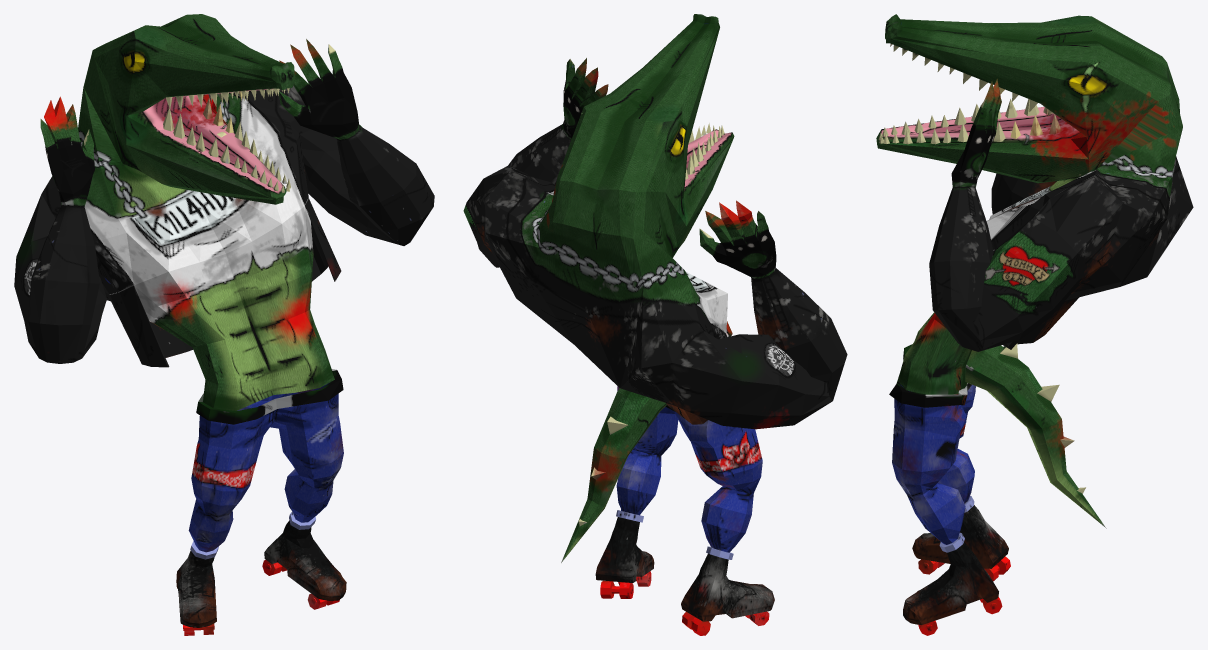
File: cocodrilaBonesSelect_000013.obj
The picture shows the model from 3 angles, left to right: view 1: azimuth 30°, elevation 25°; view 2: azimuth 150°, elevation 25°; view 3: azimuth 270°, elevation 25°; orthographic projection. The views are drawn at different scales.
Parts seen in each view (by area): view 1: Crocodile.002_Cylinder.002; view 2: Crocodile.002_Cylinder.002; view 3: Crocodile.002_Cylinder.002.
Part boxes in pixels (box(x1,y1,x2,y2)): Crocodile.002_Cylinder.002: box(14, 14, 434, 635); Crocodile.002_Cylinder.002: box(463, 14, 847, 635); Crocodile.002_Cylinder.002: box(876, 14, 1193, 635).
Size of the model in its own units: 4.54 by 6.57 by 3.24.
